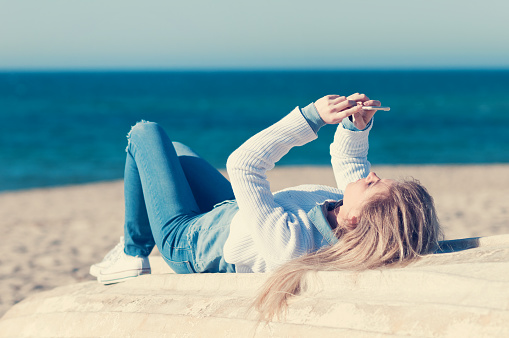deitado: (215, 93, 435, 297)
